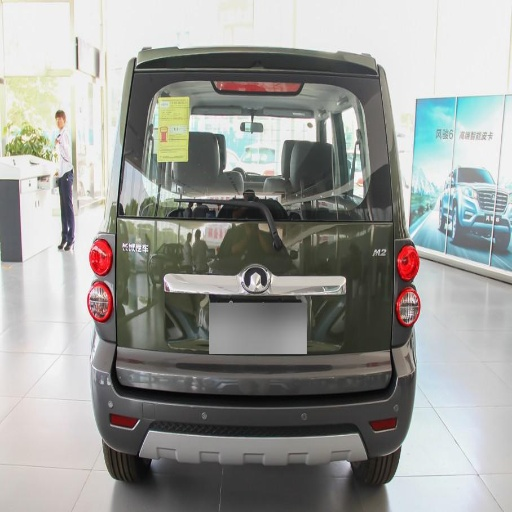back_bumper: (91, 323, 411, 466)
tailgate: (195, 276, 386, 392)
trunk: (118, 196, 390, 389), (296, 345, 390, 393)
